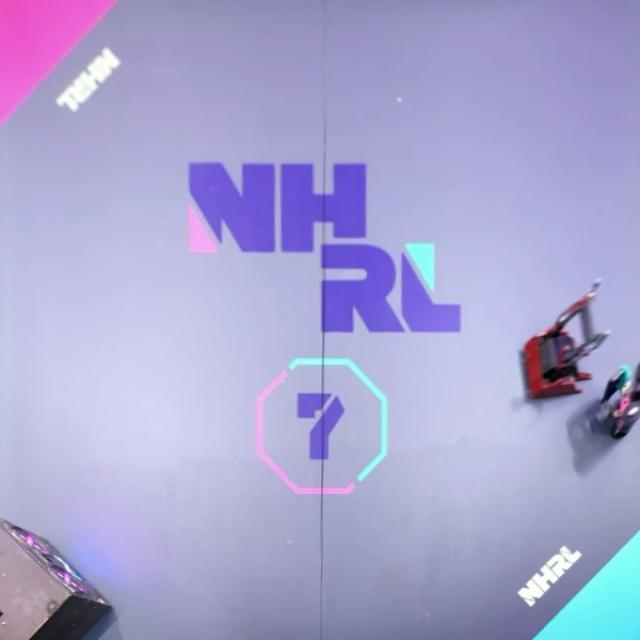housebot: (0, 518, 113, 640)
robot: (519, 279, 610, 401), (590, 362, 640, 442)
